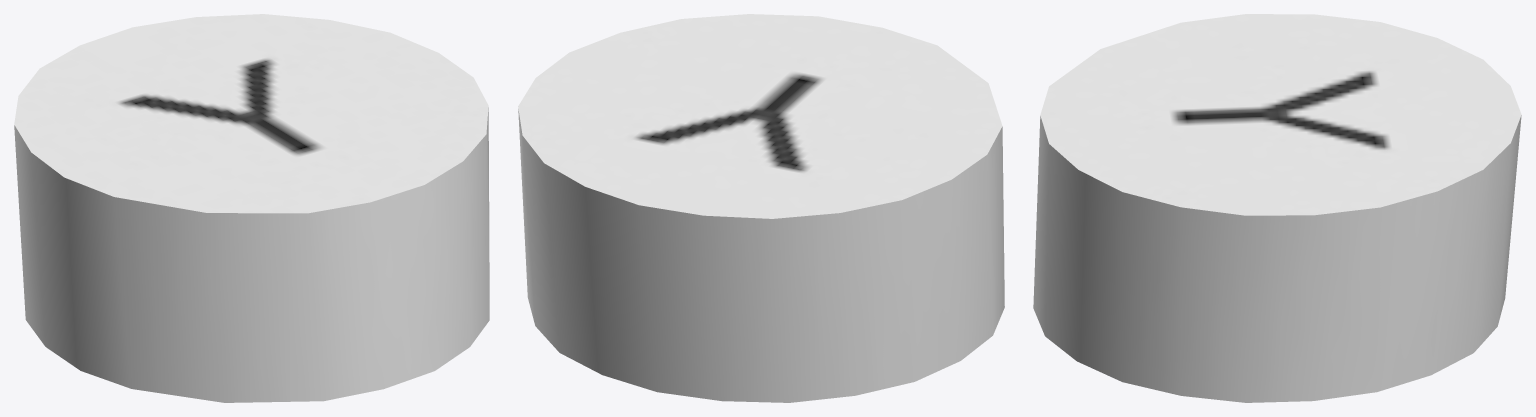
The picture shows the model from 3 angles, left to right: view 1: azimuth 30°, elevation 25°; view 2: azimuth 150°, elevation 25°; view 3: azimuth 270°, elevation 25°; orthographic projection. The views are drawn at different scales.
Bounding box in the file's own units: 0.00914 × 0.00399 × 0.00934.
Materials: 1 (1 with a texture image).
